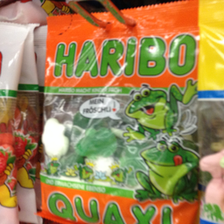candy: (31, 13, 201, 224)
